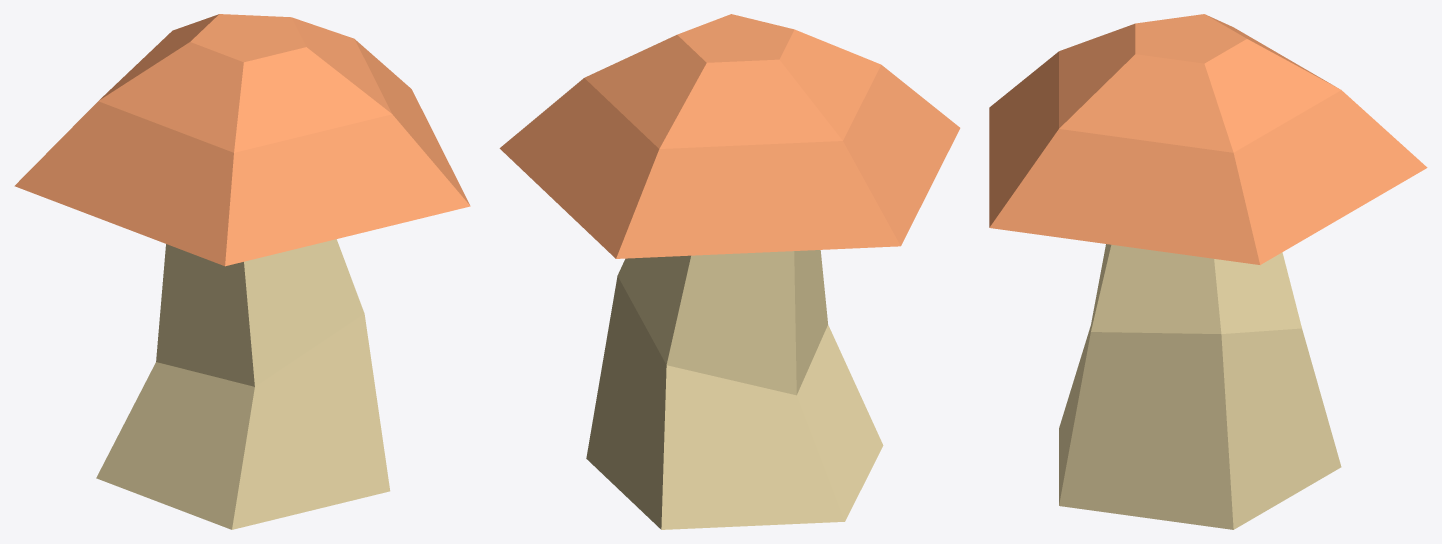
The model's file is mushroom.fbx.
3 views of the same model, side by side, from view 1: azimuth 30°, elevation 25°; view 2: azimuth 150°, elevation 25°; view 3: azimuth 270°, elevation 25° (orthographic).
Visible parts, largest first — view 1: Cylinder.004, Cylinder.001; view 2: Cylinder.004, Cylinder.001; view 3: Cylinder.004, Cylinder.001.
Part boxes in pixels (x1,y1,x2,y2): Cylinder.004: [14, 14, 470, 266]; Cylinder.001: [96, 239, 390, 529]; Cylinder.004: [499, 14, 960, 258]; Cylinder.001: [586, 250, 883, 529]; Cylinder.004: [989, 14, 1427, 264]; Cylinder.001: [1059, 244, 1341, 529].
Bounding box in the file's own units: 295 × 303 × 281.
